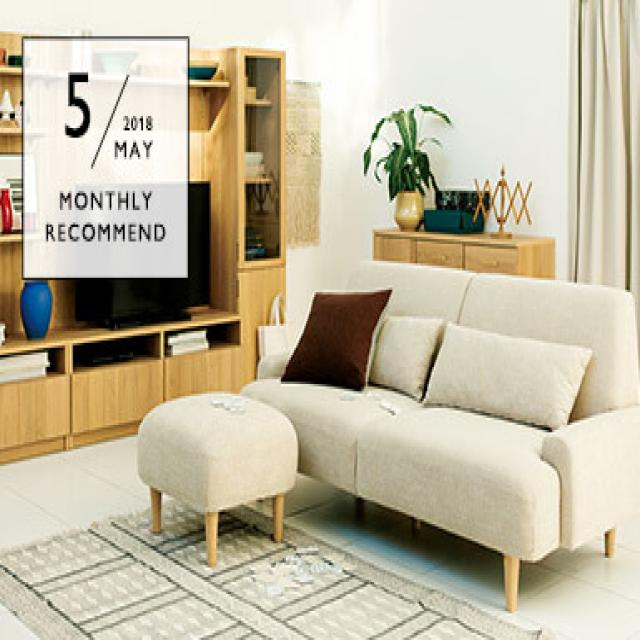natural sofa: (272, 252, 631, 607)
